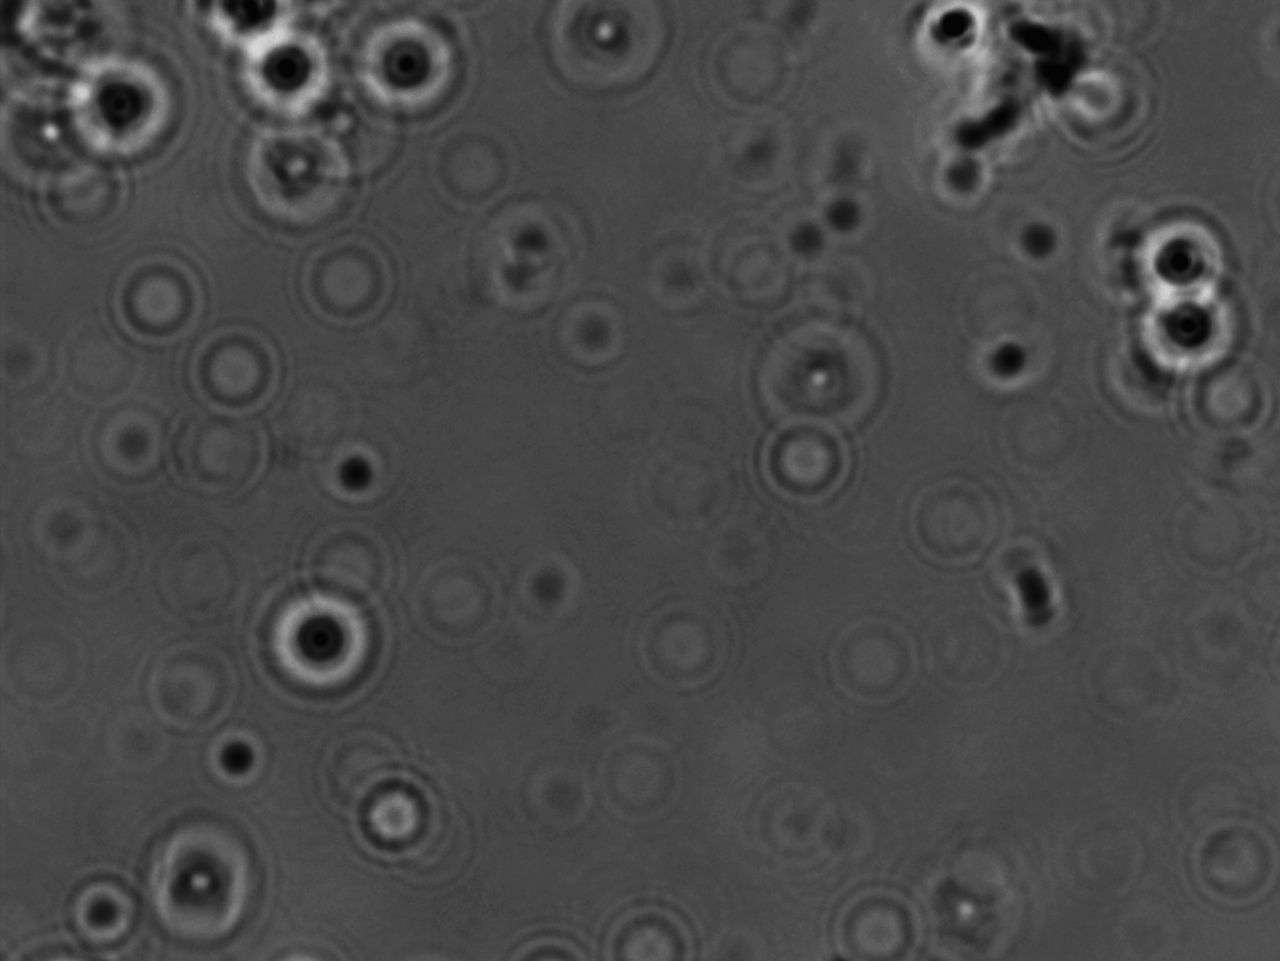depth:-16: (249, 578, 381, 700), (216, 21, 342, 140), (63, 52, 183, 169), (352, 15, 472, 131), (1133, 275, 1240, 388), (1125, 200, 1238, 305)
